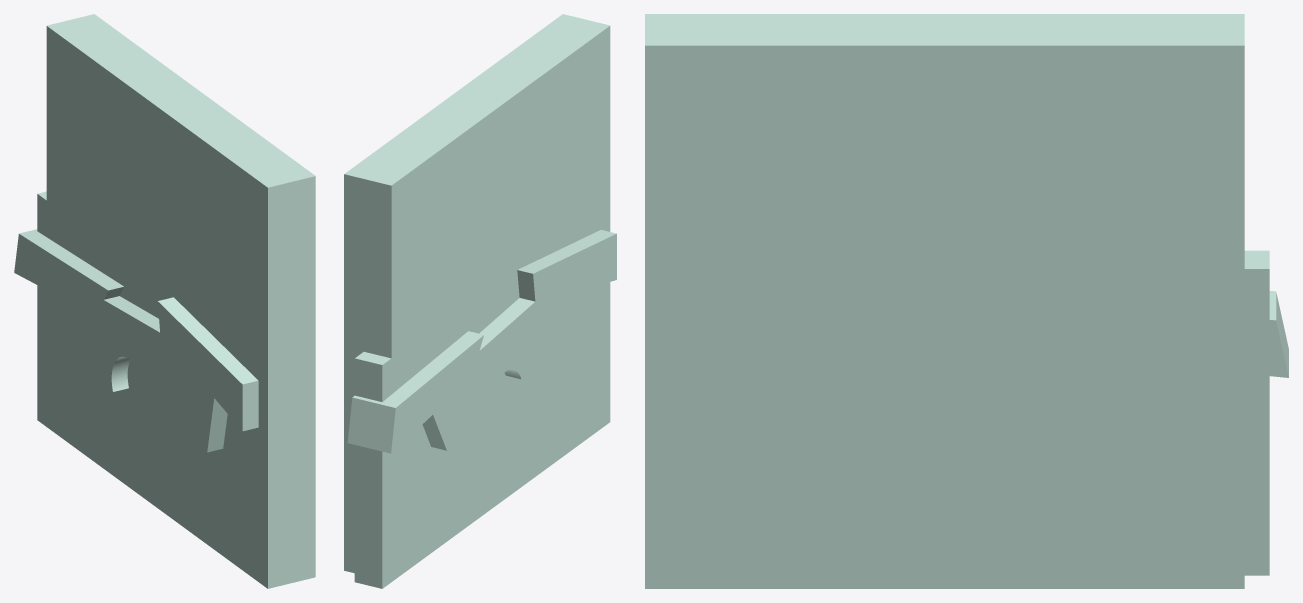
3 renders of one model, left to right at view 1: azimuth 30°, elevation 25°; view 2: azimuth 150°, elevation 25°; view 3: azimuth 270°, elevation 25°, orthographic. The views are drawn at different scales.
Parts seen in each view (by area): view 1: Renderer Node; view 2: Renderer Node; view 3: Renderer Node.
Part boxes in pixels (x1,y1,x2,y2): Renderer Node: (14, 14, 315, 588); Renderer Node: (344, 14, 616, 588); Renderer Node: (645, 14, 1288, 588).
Bounding box in the file's own units: 0.125 × 0.75 × 0.8055.
